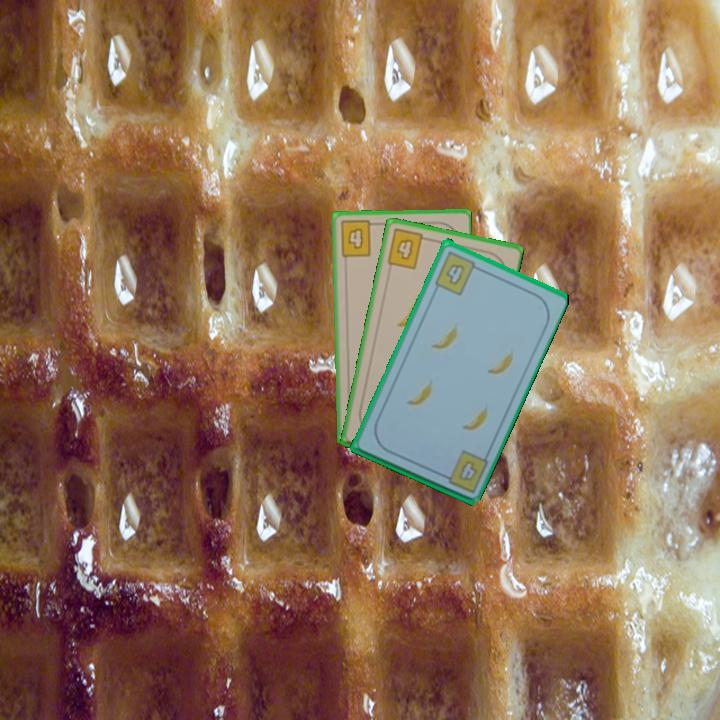4b: (436, 446, 491, 496), (431, 247, 483, 297), (383, 225, 432, 272), (336, 217, 380, 260)
